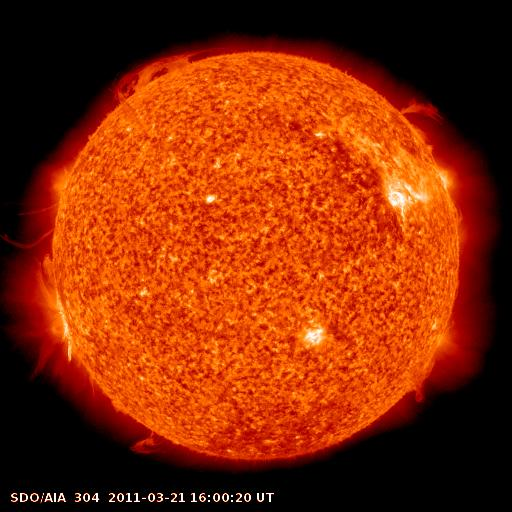prominence: (100, 40, 240, 116), (1, 195, 66, 253), (386, 86, 453, 137), (394, 352, 441, 417), (117, 419, 172, 461), (27, 253, 62, 313)
